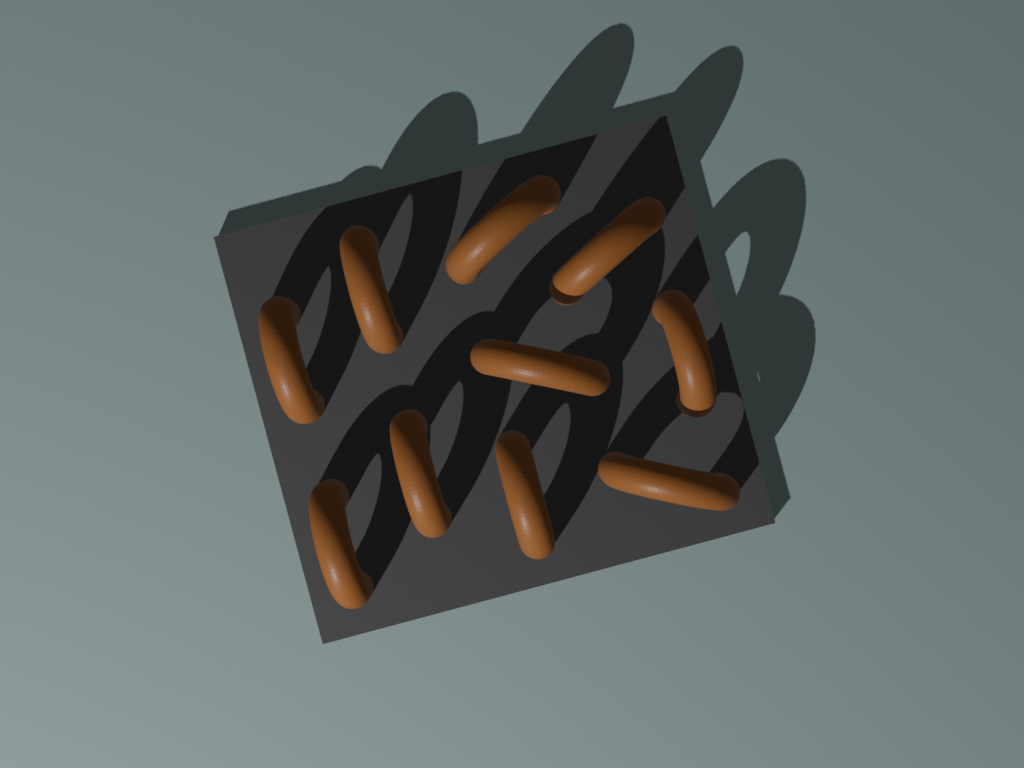return-bend: (420, 144, 584, 305), (524, 170, 688, 331), (365, 392, 471, 565), (311, 210, 417, 383), (284, 459, 389, 632), (638, 260, 743, 433), (471, 412, 576, 584), (238, 274, 343, 446), (456, 328, 625, 416), (588, 441, 756, 529)
